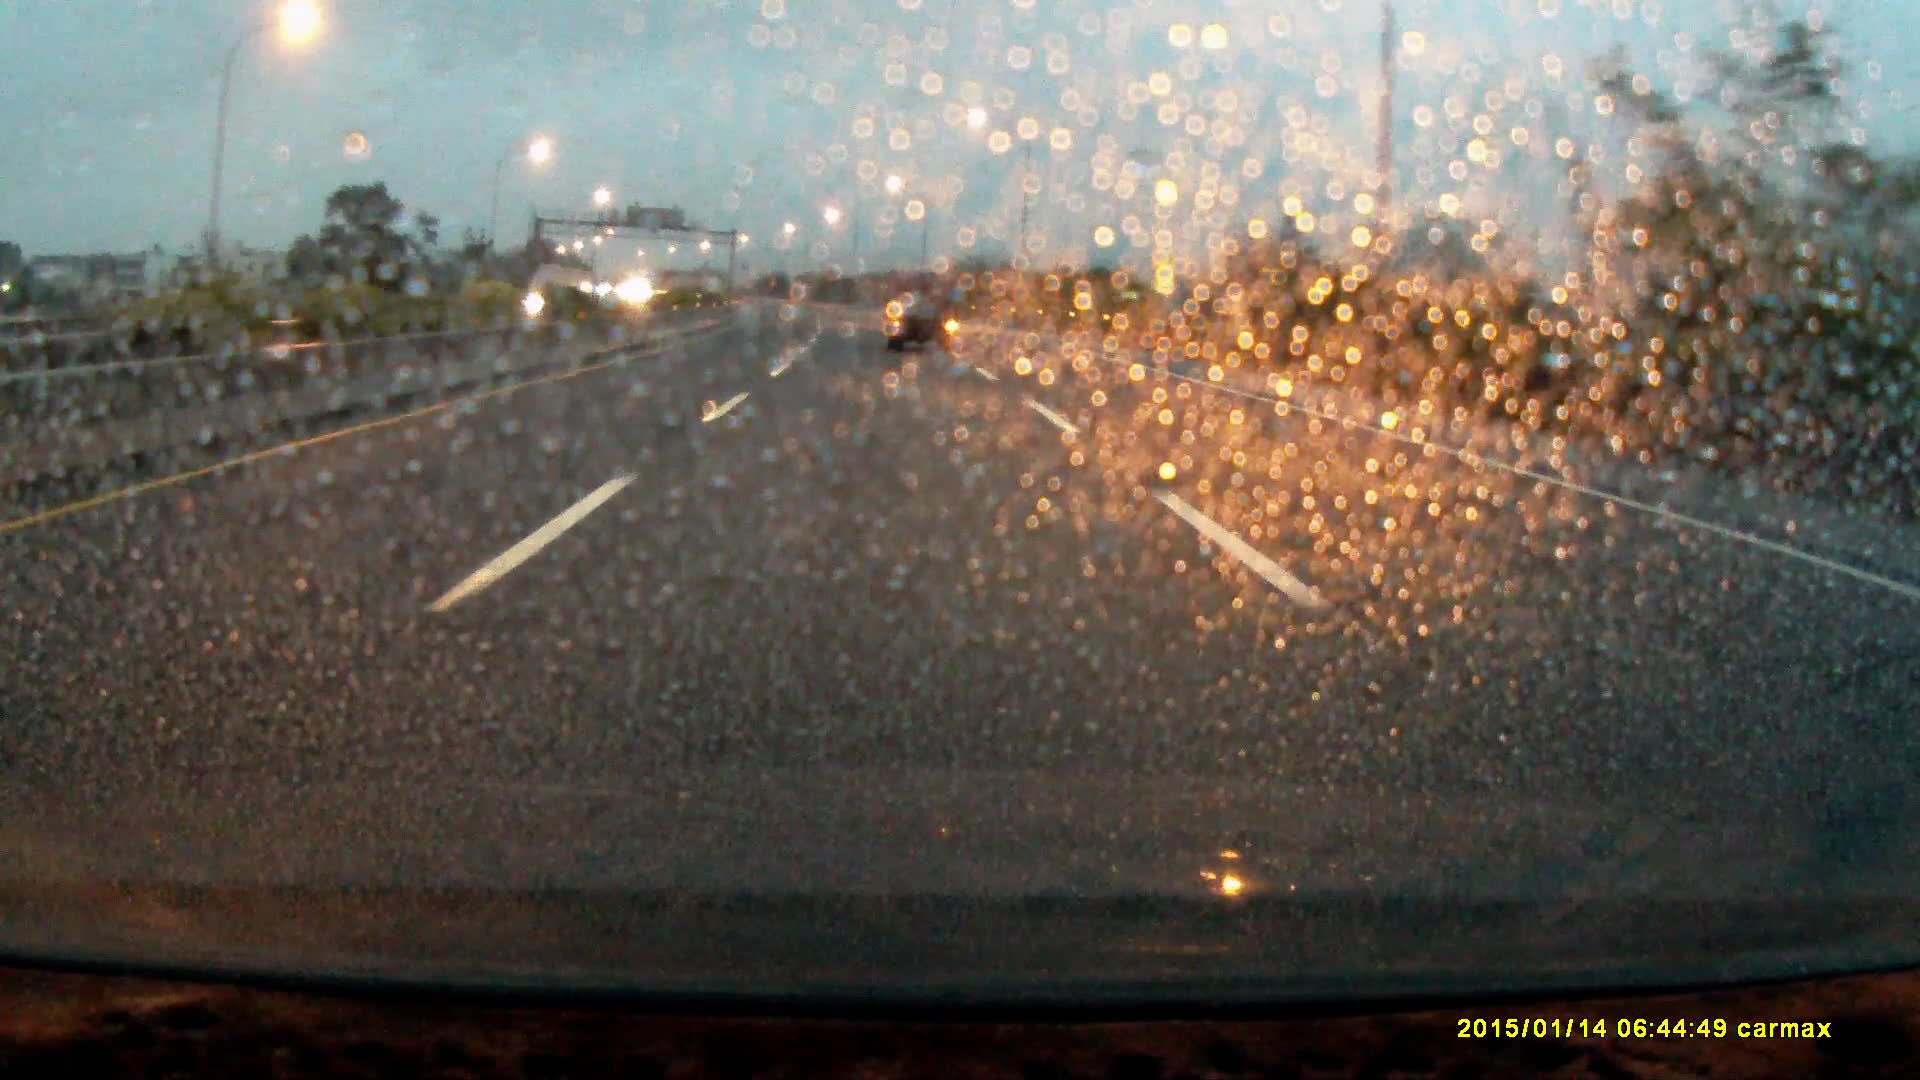vehicle: (887, 270, 959, 353)
